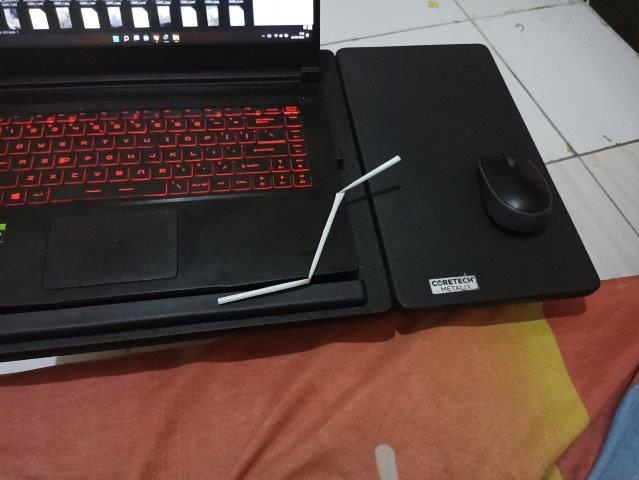sedotan: (216, 157, 400, 304)
